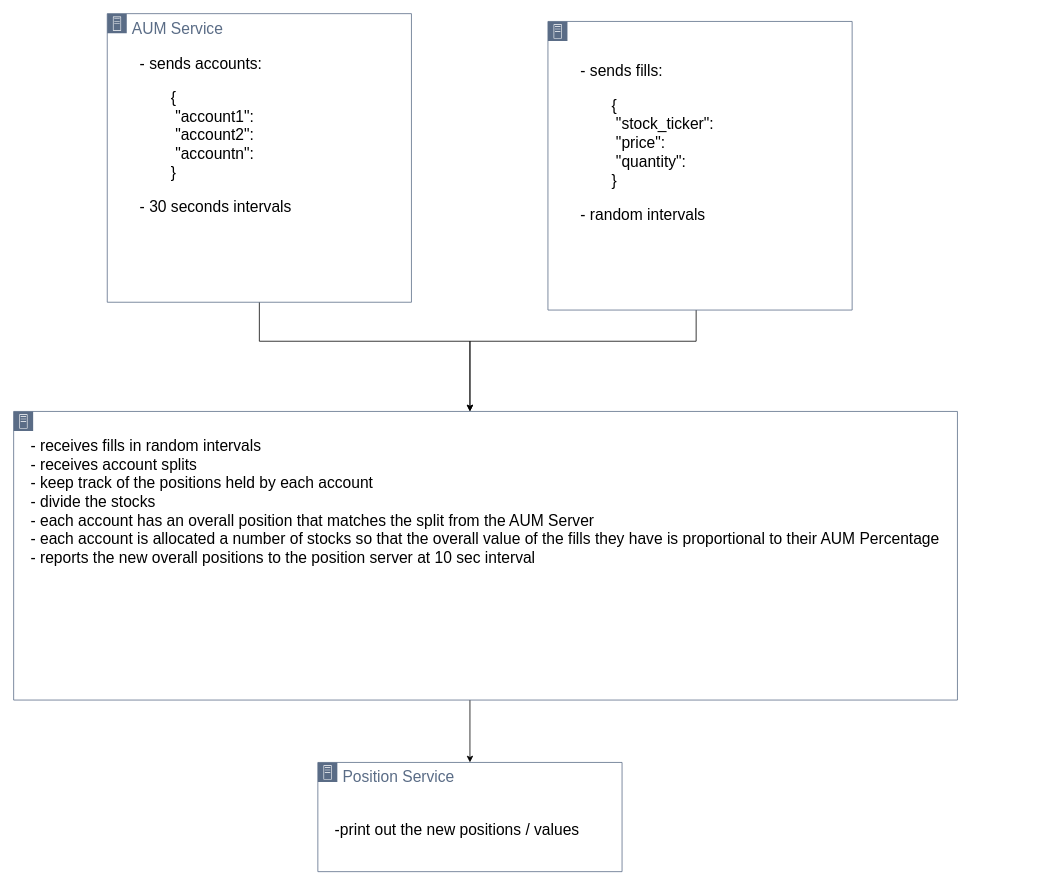
Image size: 1057x885. Some labels were removed from this diagram. The box of each missing label's shape, as (x1, y1, x2, y2) in pixels:
Controller Service: (13, 411, 957, 700)
Fill Service: (547, 21, 852, 310)
